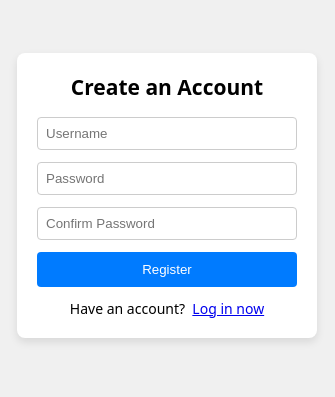
Test: User Registration › should display error when username is already taken
Type "user123" into the field with test id "username" at (167, 134), box [37,117,297,150]
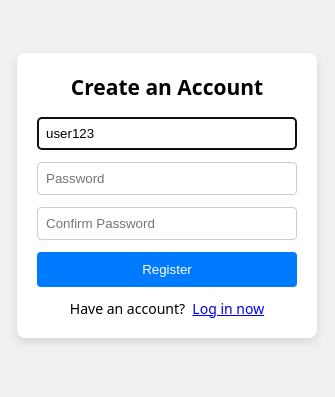
Type "AnyPass123" into the password field with test id "password" at (167, 179), box [37,162,297,195]
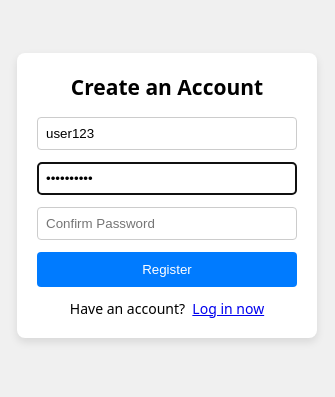
Type "AnyPass123" into the password field with test id "register-confirm-password" at (167, 224), box [37,207,297,240]
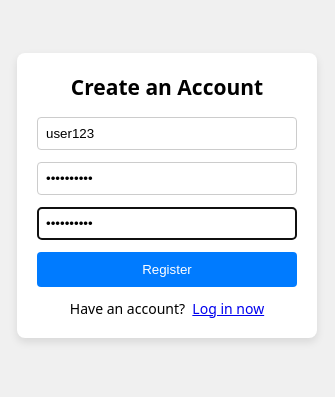
Click the button with test id "register-button" at (167, 270), box [37,252,297,287]
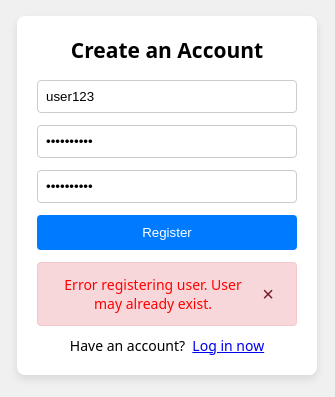
expect the text with test id "error-message" reads "Error registering user. User may already exist.": met, box [64,275,241,313]
